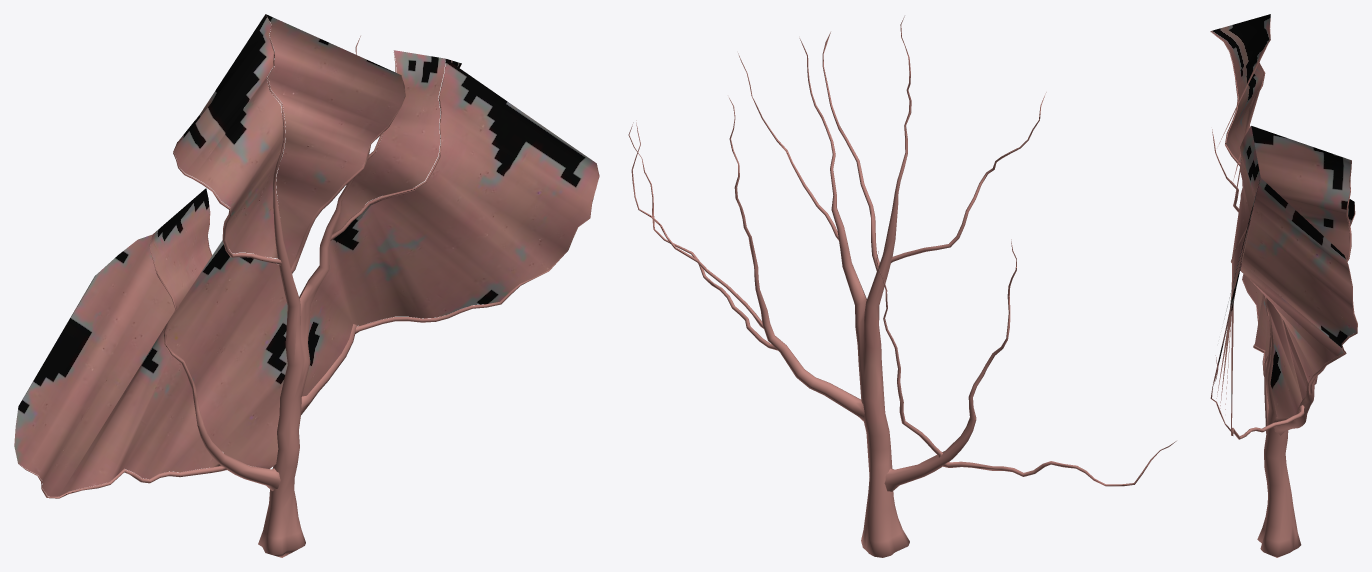
Rendered from CoralFan_01-transformed.glb.
The picture shows the model from 3 angles, left to right: view 1: azimuth 30°, elevation 25°; view 2: azimuth 150°, elevation 25°; view 3: azimuth 270°, elevation 25°; orthographic projection. The views are drawn at different scales.
Visible parts, largest first — view 1: CoralFan_01; view 2: CoralFan_01; view 3: CoralFan_01.
Part boxes in pixels (x1,y1,x2,y2): CoralFan_01: (14,14,599,557); CoralFan_01: (628,16,1176,557); CoralFan_01: (1210,14,1357,557).
Size of the model in its own units: 9.62 by 8.86 by 2.22.
1 material, 1 textured.
